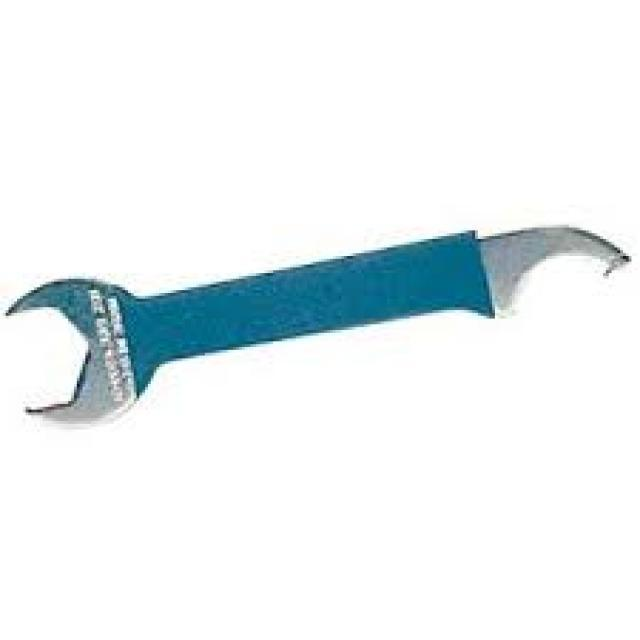wrench: (0, 213, 633, 443)
